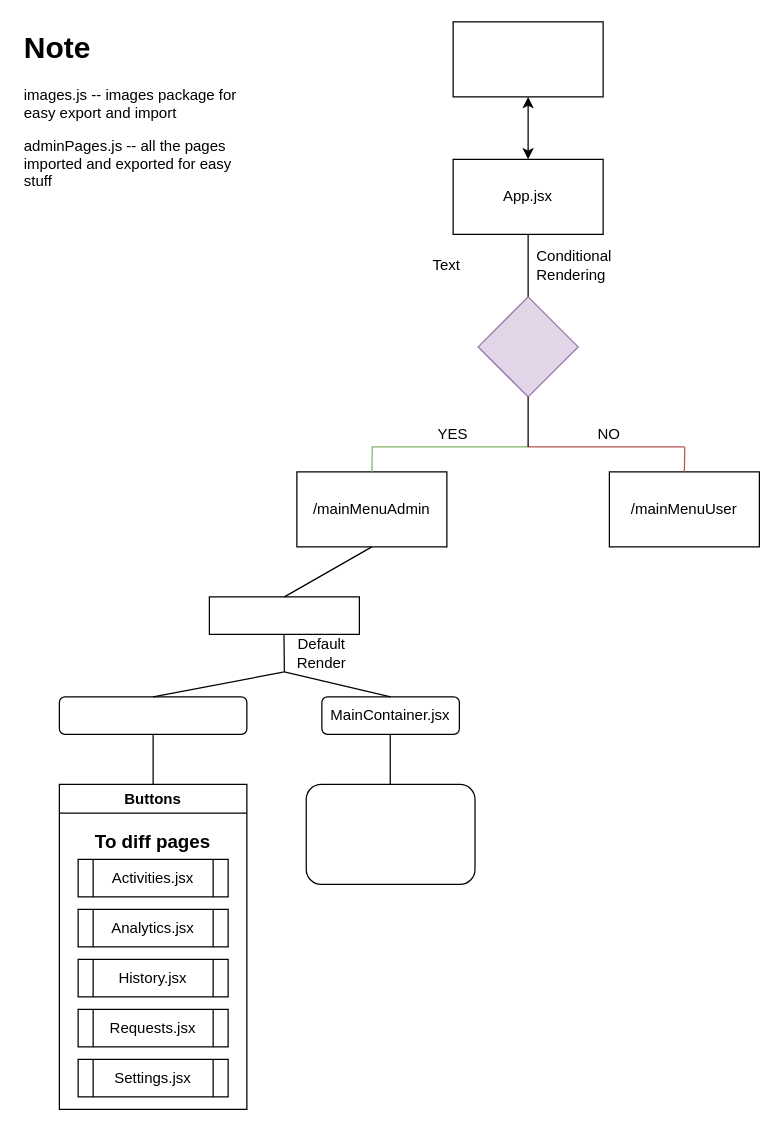
Image size: 781x1131. Some labels were removed from this diagram. Here are the shapes that lost their labels. From the top down, the centre of each, then its label:
[527,59]: main.jsx
[527,346]: is person admin?
[283,615]: mainmenuadmin.jsx
[152,715]: MainMenuAdminAside.jsx
[390,833]: With every page, the MainContainer gets removed and replaced with what page
